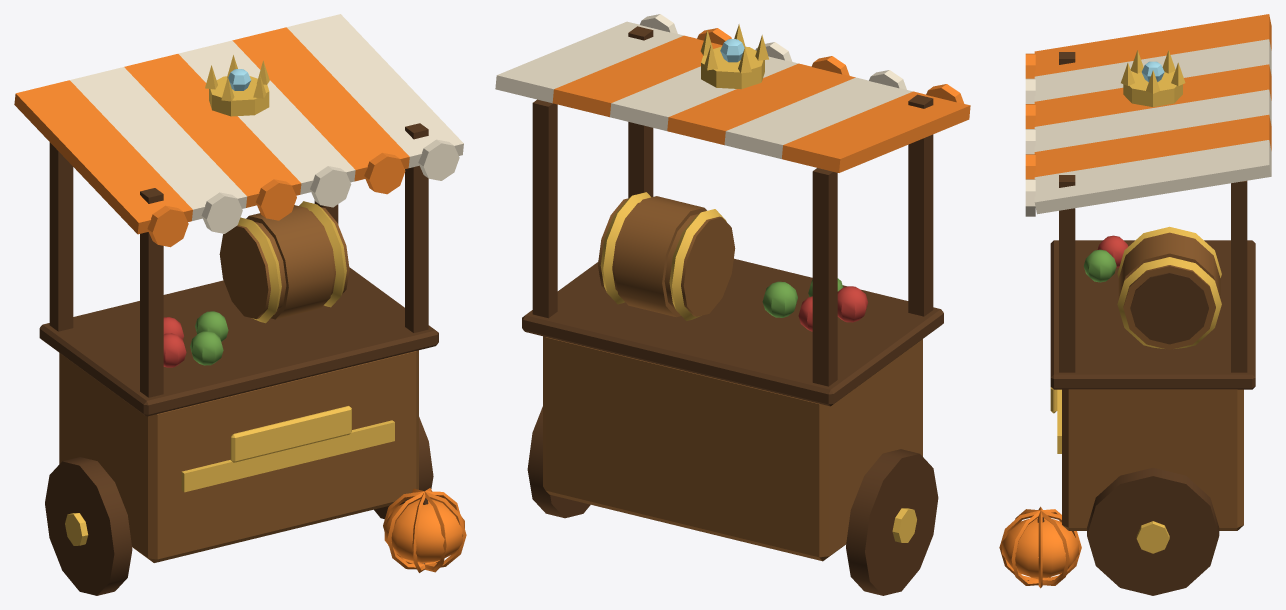
Rendered from PR_Station_SezonHasat_T3.fbx.
3 renders of one model, left to right at view 1: azimuth 30°, elevation 25°; view 2: azimuth 150°, elevation 25°; view 3: azimuth 270°, elevation 25°, orthographic. The views are drawn at different scales.
Visible parts, largest first — view 1: PR_Station_SezonHasat_T3; view 2: PR_Station_SezonHasat_T3; view 3: PR_Station_SezonHasat_T3.
Boxes of the visible parts, x1,y1,x2,y2 form: PR_Station_SezonHasat_T3: [14, 14, 466, 595]; PR_Station_SezonHasat_T3: [495, 14, 970, 595]; PR_Station_SezonHasat_T3: [999, 14, 1271, 595].
Bounding box in the file's own units: 1.1 × 1.56 × 0.8226.
